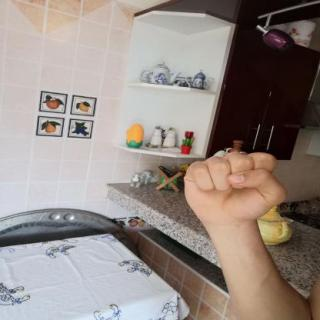SAD: (173, 144, 296, 236)
